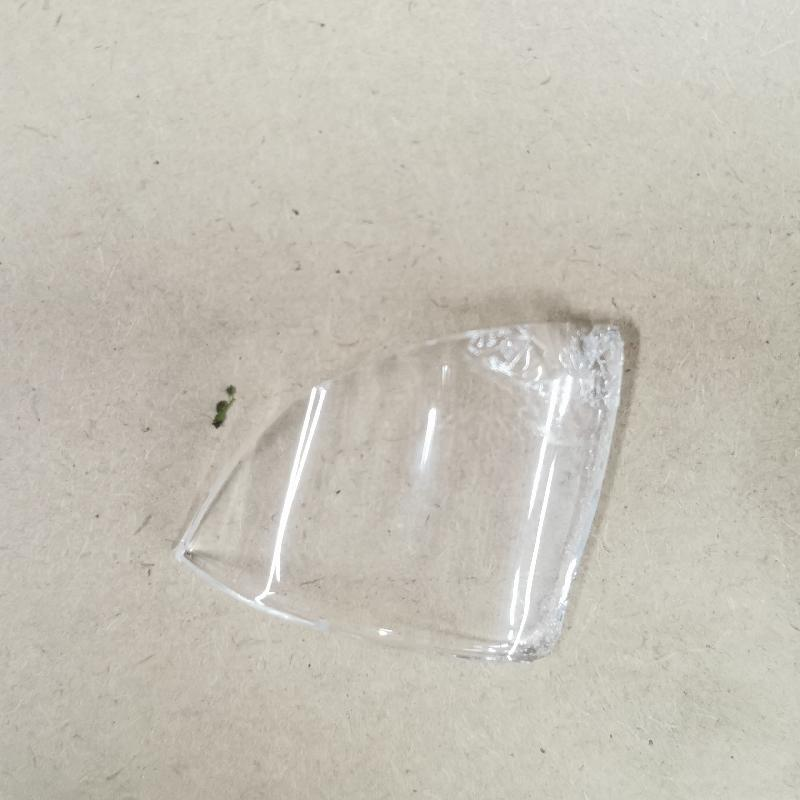glass: (173, 322, 630, 665)
